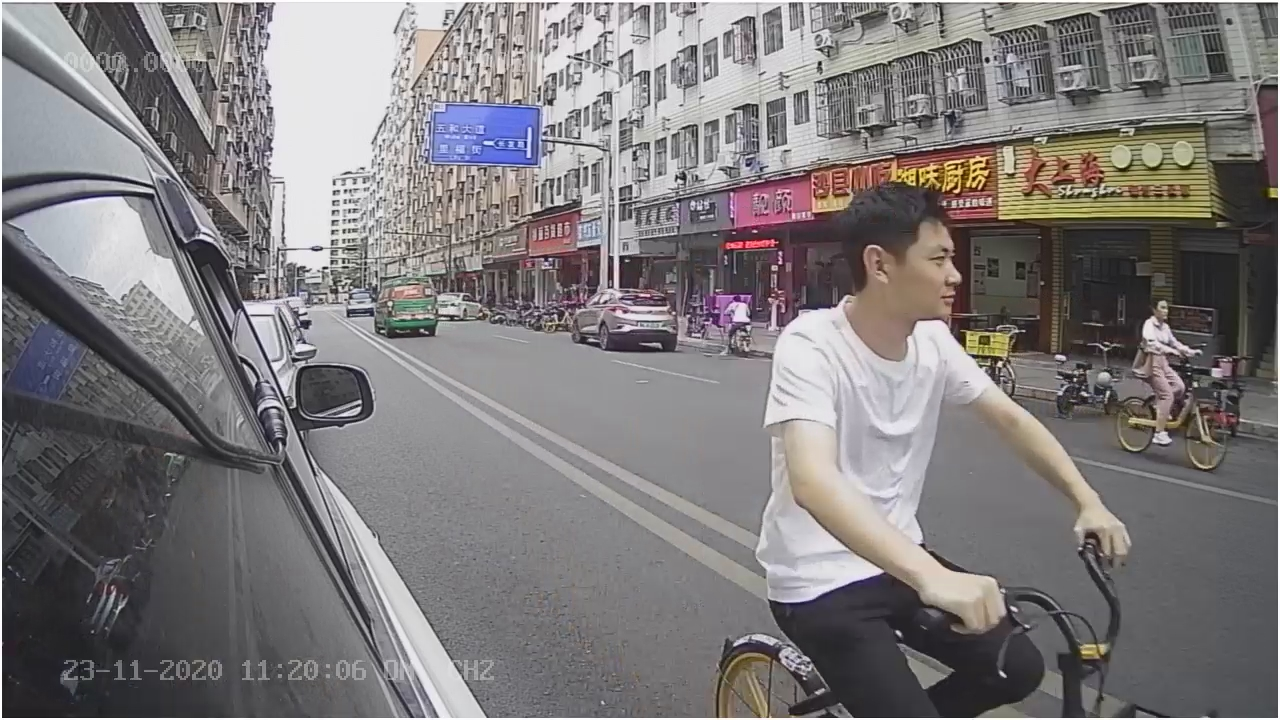person: (746, 178, 1139, 573)
